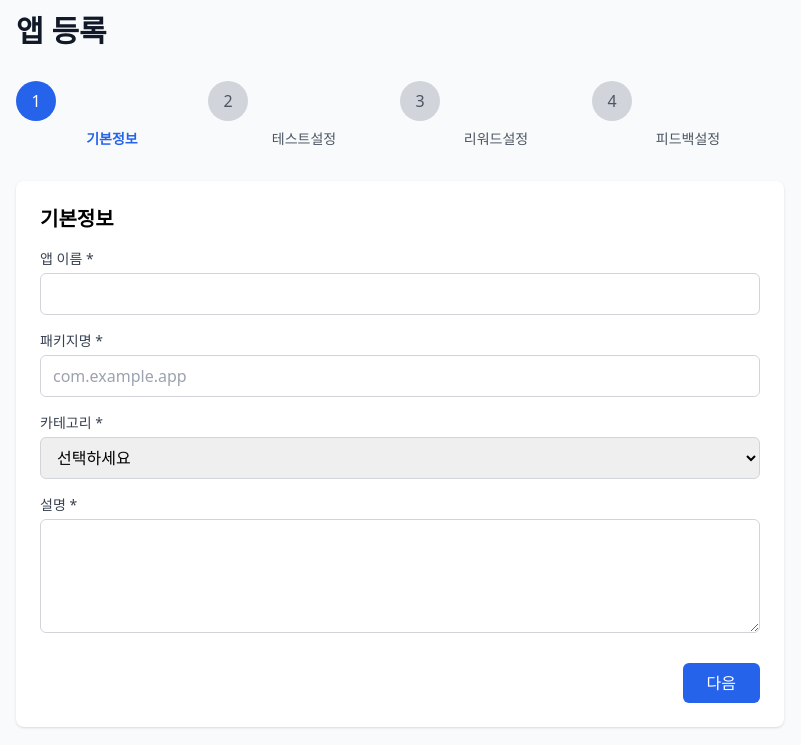
Test: P3-S7: App Register Page (4-Step Wizard) › 🔴 RED: Step 2 - 테스트설정 Form Fields › should navigate to step 2 after valid step 1
The width and height of the screenshot is (801, 745).
Type "Test App" into the field labelled "앱 이름 *". click: (400, 294)
box: 40,273 -> 760,315
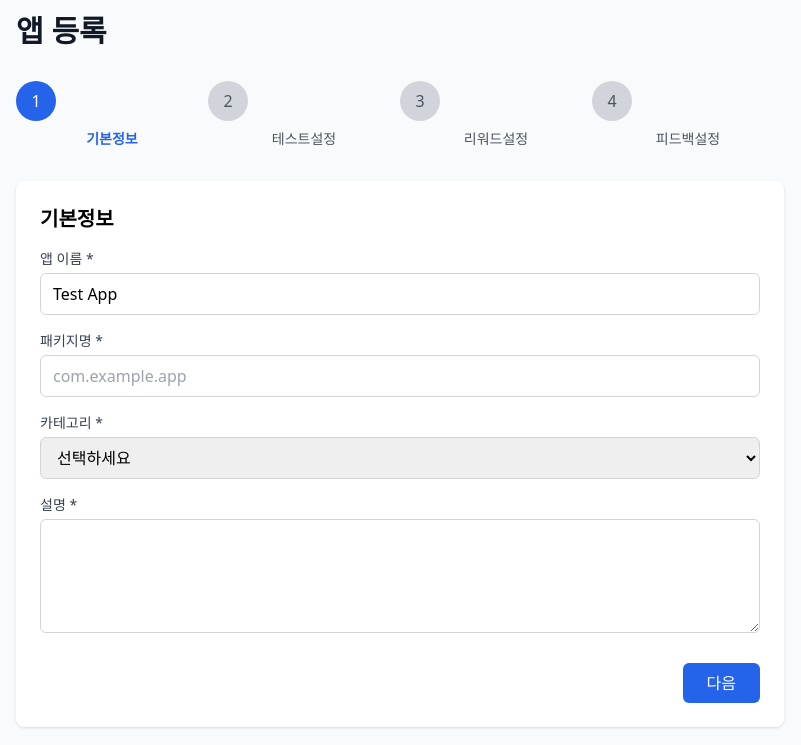
Type "com.test.app" into the field labelled "패키지명 *". click: (400, 376)
box: 40,355 -> 760,397
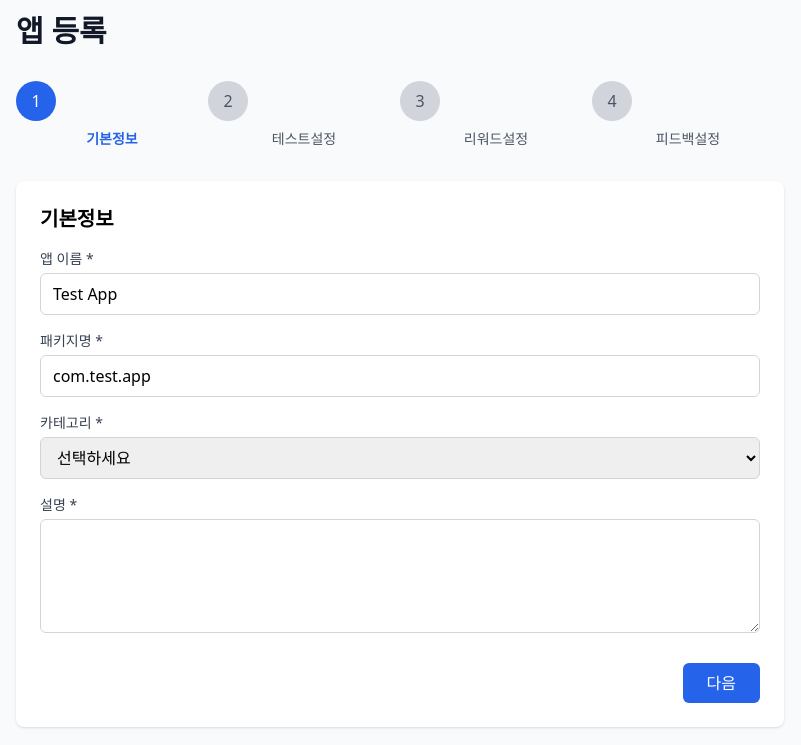
Select "Game" in the dropdown labelled "카테고리 *". click: (400, 458)
box: 40,437 -> 760,479
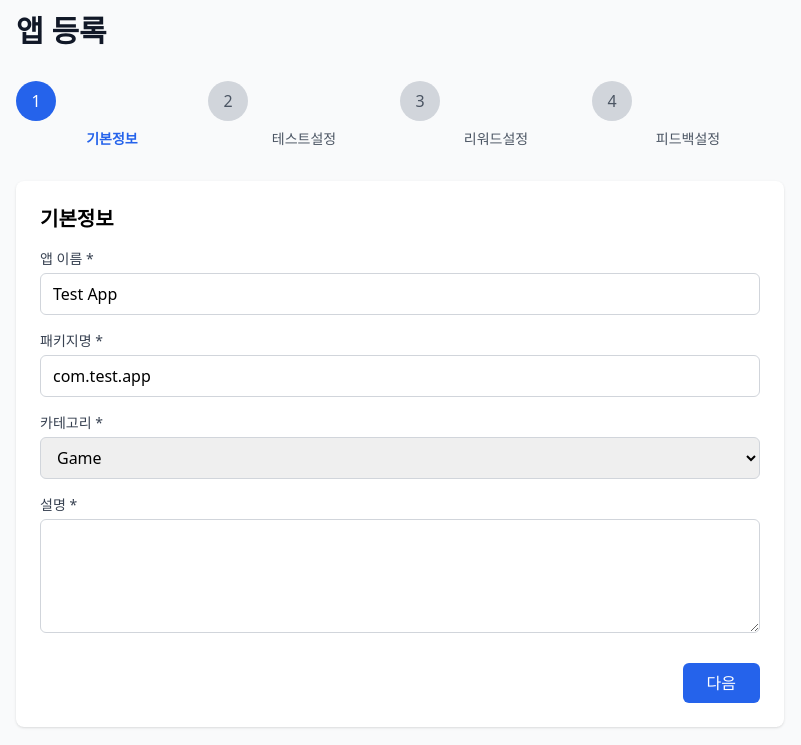
Type "Test description" into the text box labelled "설명 *". click: (400, 576)
box: 40,519 -> 760,633
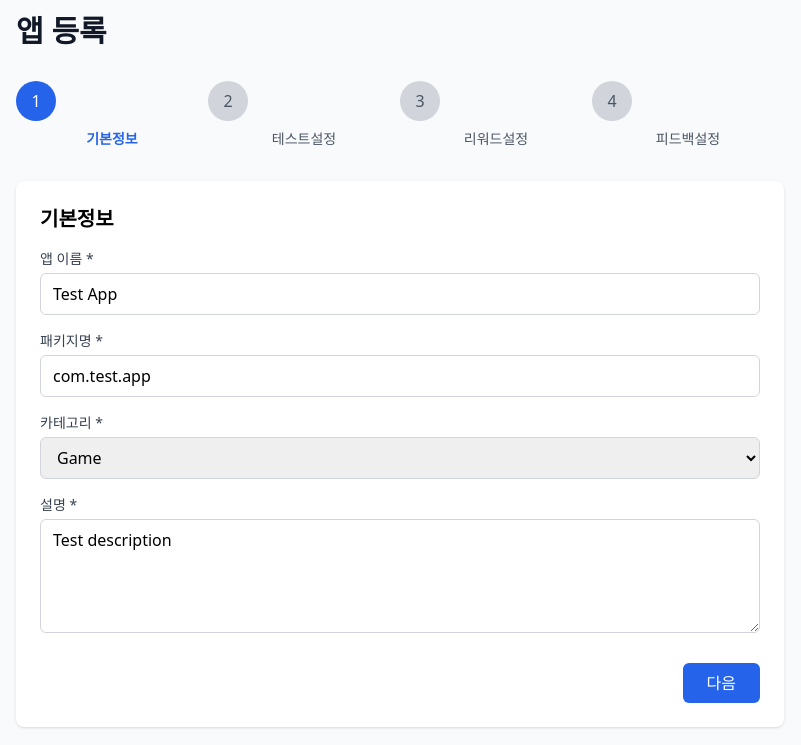
Click the button "다음". click: (721, 683)
box: 682,663 -> 760,703
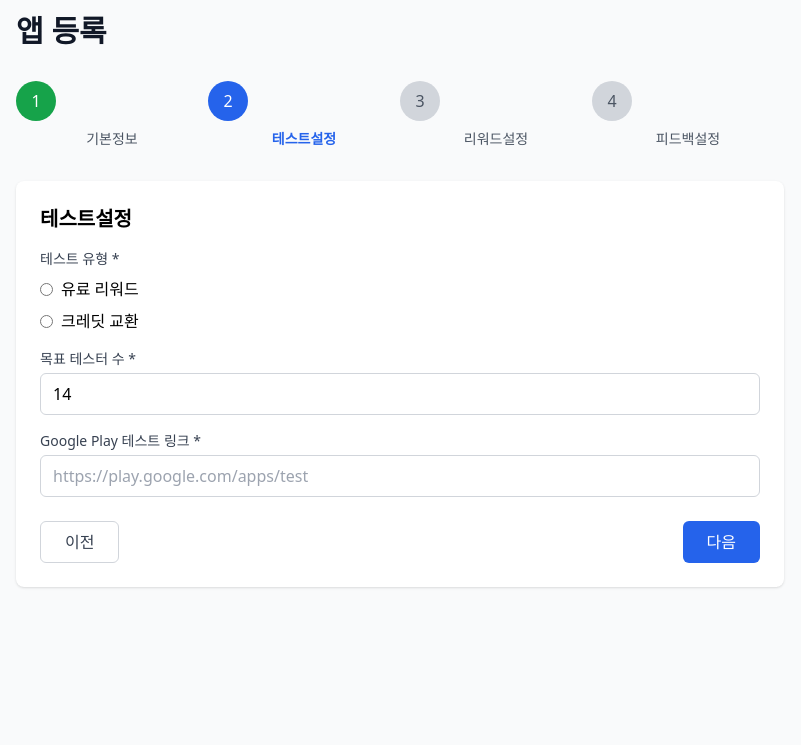
expect the heading "테스트설정" is shown: met, box 40,205 -> 132,232
expect the radio button labelled "유료 리워드" is shown: met, box 40,282 -> 53,296
expect the number field labelled "목표 테스터 수 *" is shown: met, box 40,373 -> 760,415
